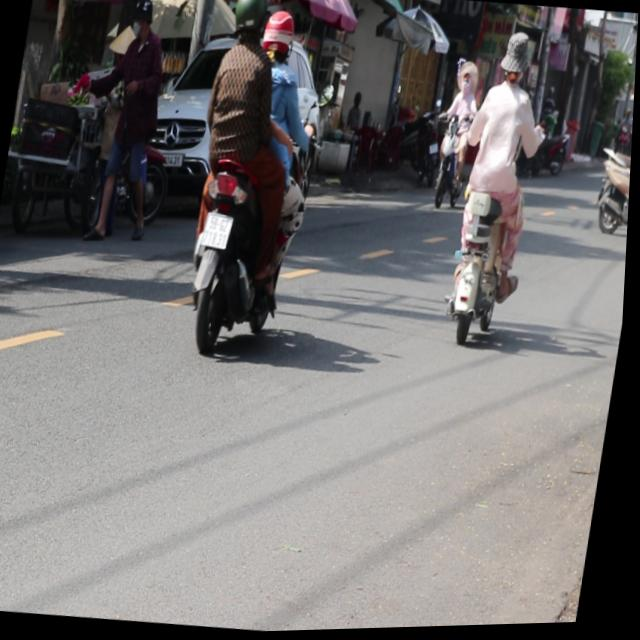helmet: (258, 8, 298, 66), (227, 0, 272, 48)
licenseplate: (170, 0, 339, 362), (437, 26, 559, 350)
motorcyclist: (498, 32, 533, 89)
nohelmet: (201, 212, 235, 250)
